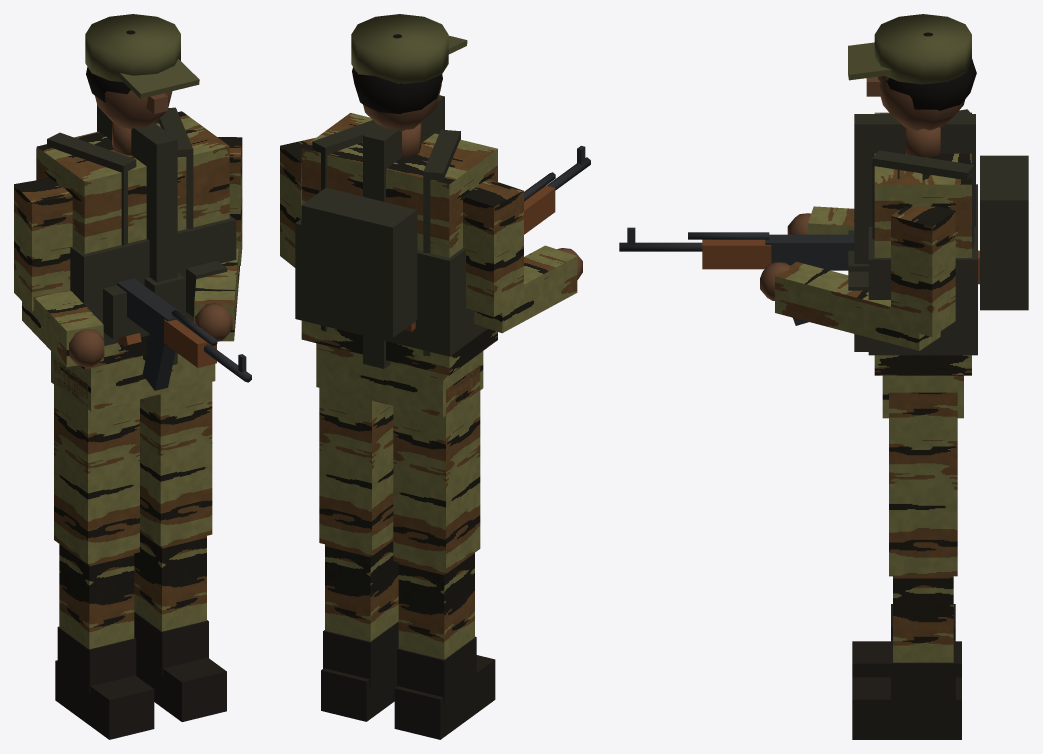
Rendered from soldier_ltte.glb.
3 renders of one model, left to right at view 1: azimuth 30°, elevation 25°; view 2: azimuth 150°, elevation 25°; view 3: azimuth 270°, elevation 25°, orthographic.
Visible parts, largest first — view 1: Torso, LegR, LegL, ArmR, Head, Rifle, Pelvis, ArmL; view 2: Torso, LegR, LegL, ArmR, Head, Pelvis, ArmL, Rifle; view 3: Torso, LegL, ArmL, Head, Rifle, LegR, Pelvis, ArmR.
Boxes of the visible parts, left/top/right/bottom form: Torso: left=36, top=105, right=236, bottom=369; LegR: left=54, top=359, right=154, bottom=739; LegL: left=134, top=382, right=226, bottom=721; ArmR: left=14, top=178, right=104, bottom=367; Head: left=85, top=14, right=199, bottom=129; Rifle: left=117, top=278, right=251, bottom=390; Pelvis: left=51, top=351, right=215, bottom=411; ArmL: left=194, top=137, right=242, bottom=341; Torso: left=295, top=95, right=497, bottom=375; LegR: left=393, top=365, right=495, bottom=739; LegL: left=319, top=388, right=398, bottom=721; ArmR: left=463, top=179, right=582, bottom=333; Head: left=351, top=14, right=467, bottom=131; Pelvis: left=316, top=343, right=483, bottom=417; ArmL: left=280, top=137, right=315, bottom=267; Rifle: left=404, top=145, right=590, bottom=331; Torso: left=848, top=109, right=1028, bottom=375; LegL: left=852, top=392, right=961, bottom=739; ArmL: left=760, top=206, right=955, bottom=350; Head: left=848, top=14, right=976, bottom=130; Rifle: left=619, top=227, right=979, bottom=325; LegR: left=852, top=604, right=961, bottom=677; Pelvis: left=882, top=375, right=963, bottom=418; ArmR: left=787, top=206, right=854, bottom=234.
Bounding box in the file's own units: 0.6769 × 1.84 × 1.01.
Materials: 8 (1 with a texture image).
